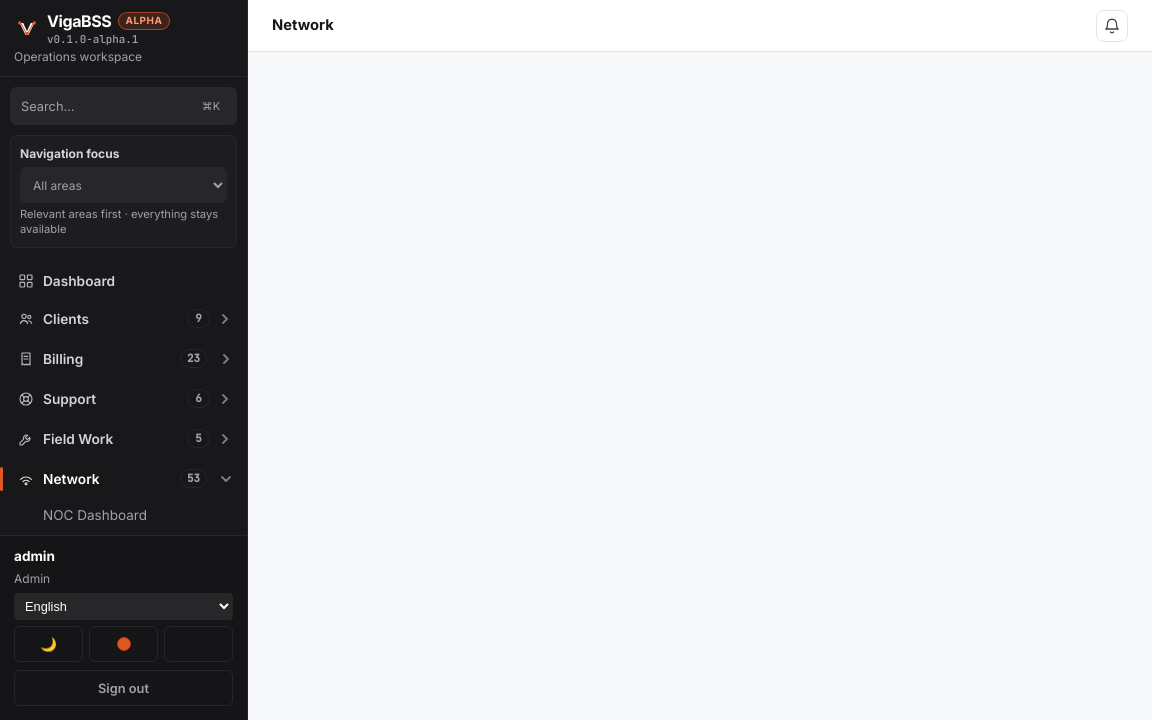
Layout — grouped sidebar navigation › keeps the current route visible when another navigation focus is selected
The width and height of the screenshot is (1152, 720).
Select "Billing first" in the dropdown labelled "Navigation focus": (124, 185) [20, 167, 227, 203]
(page scrolled)
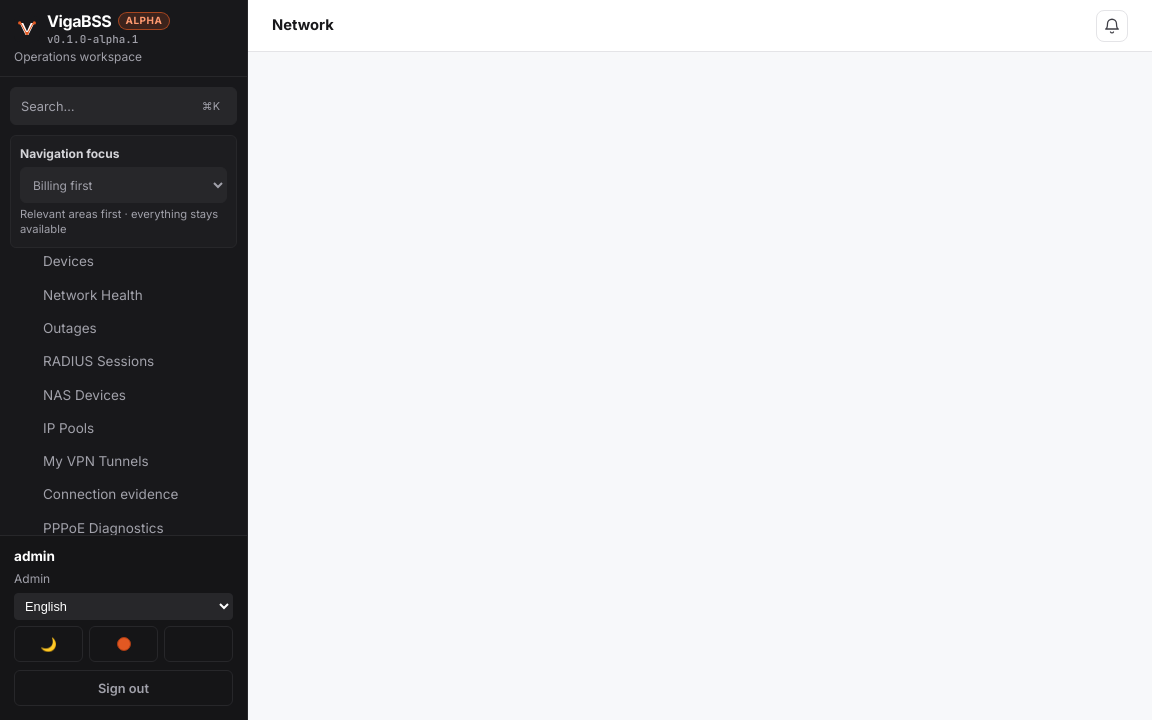
Expected: the link "NAS Devices" is shown, [43, 386, 126, 402]
